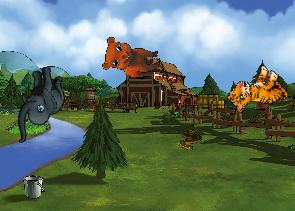bear: (102, 36, 160, 77)
elephant: (4, 63, 73, 143)
tiger: (223, 58, 293, 127)
